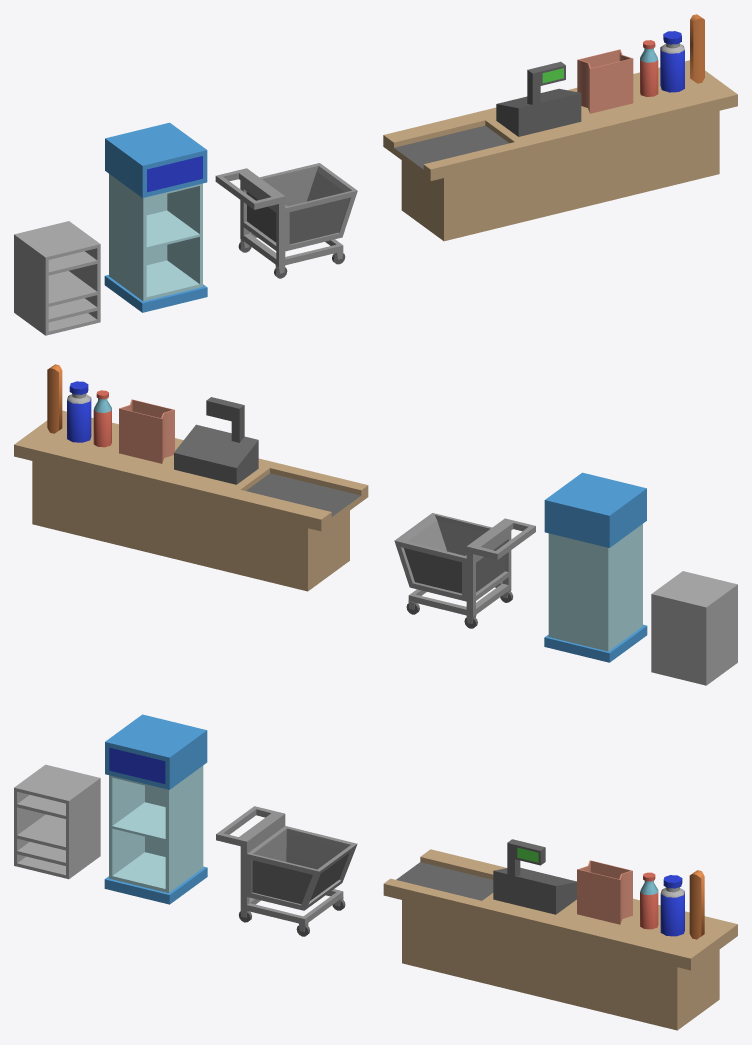
File: Shop.fbx
The picture shows the model from 3 angles, top to bottom: view 1: azimuth 30°, elevation 25°; view 2: azimuth 150°, elevation 25°; view 3: azimuth 330°, elevation 25°; orthographic projection.
Visible parts, largest first — view 1: cash-desk, fridge, cart, shop-window, cash, package, bottle, bread, bottle2; view 2: cash-desk, fridge, cart, shop-window, cash, package, bottle, bread, bottle2; view 3: cash-desk, fridge, cart, shop-window, cash, package, bottle, bread, bottle2.
Part boxes in pixels (left/top/right/bottom): cash-desk: left=383, top=60, right=737, bottom=241; fridge: left=104, top=122, right=207, bottom=312; cart: left=215, top=163, right=357, bottom=278; shop-window: left=14, top=221, right=100, bottom=335; cash: left=496, top=61, right=581, bottom=136; package: left=577, top=49, right=633, bottom=113; bottle: left=660, top=31, right=684, bottom=92; bread: left=690, top=14, right=704, bottom=83; bottle2: left=640, top=40, right=658, bottom=96; cash-desk: left=14, top=410, right=368, bottom=591; fridge: left=544, top=472, right=647, bottom=662; cart: left=394, top=513, right=535, bottom=628; shop-window: left=651, top=571, right=737, bottom=685; cash: left=174, top=397, right=258, bottom=484; package: left=119, top=399, right=174, bottom=463; bottle: left=67, top=381, right=91, bottom=442; bread: left=47, top=364, right=62, bottom=433; bottle2: left=93, top=390, right=111, bottom=447; cash-desk: left=383, top=849, right=737, bottom=1030; fridge: left=104, top=714, right=207, bottom=904; cart: left=216, top=806, right=357, bottom=936; shop-window: left=14, top=764, right=100, bottom=879; cash: left=493, top=839, right=576, bottom=914; package: left=577, top=860, right=632, bottom=924; bottle: left=660, top=875, right=684, bottom=936; bread: left=689, top=870, right=704, bottom=939; bottle2: left=640, top=872, right=658, bottom=929.
Bounding box in the file's own units: 1137 × 237 × 136.
